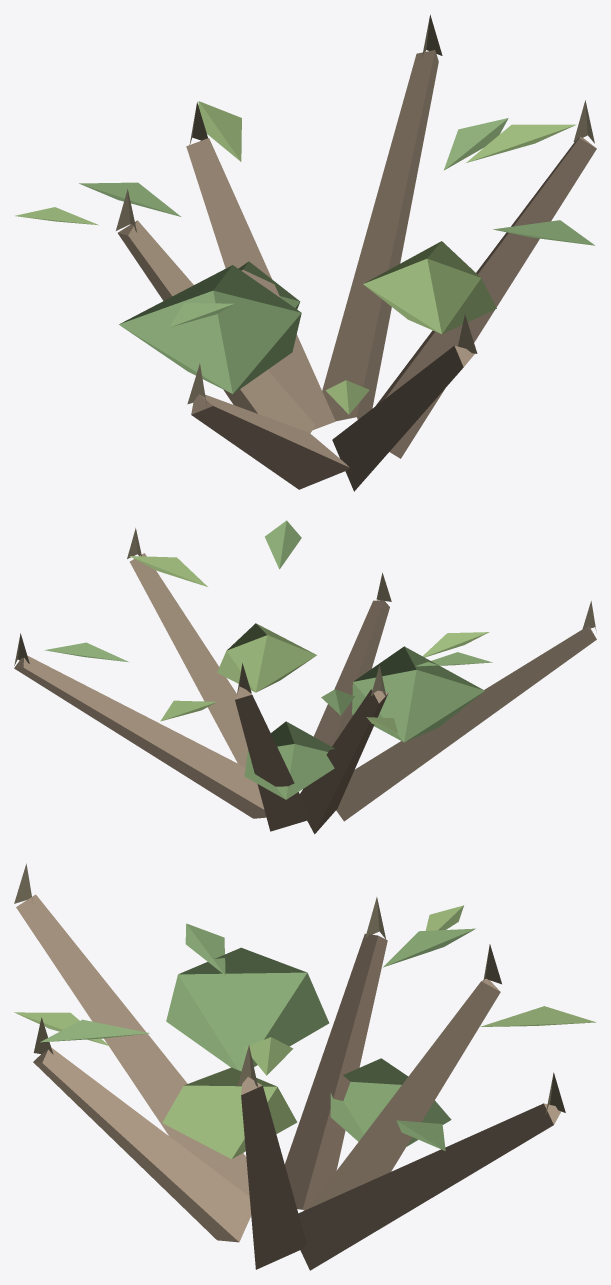
Rendered from cao.hanji@subadult__spring.glb.
3 views of the same model, one above another, from view 1: azimuth 30°, elevation 25°; view 2: azimuth 150°, elevation 25°; view 3: azimuth 270°, elevation 25° (orthographic). The views are drawn at different scales.
Visible parts, largest first — view 1: cao.hanji@subadult__spring; view 2: cao.hanji@subadult__spring; view 3: cao.hanji@subadult__spring.
Part boxes in pixels (x1,y1,x2,y2): cao.hanji@subadult__spring: (15, 14, 596, 491); cao.hanji@subadult__spring: (14, 520, 596, 834); cao.hanji@subadult__spring: (14, 863, 595, 1270).
Bounding box in the file's own units: 1.14 × 0.6597 × 1.1.
